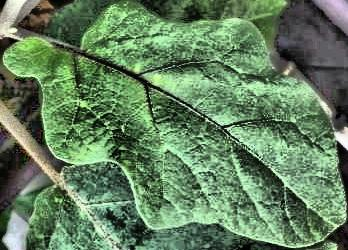HEALTHY: (1, 1, 348, 250)
